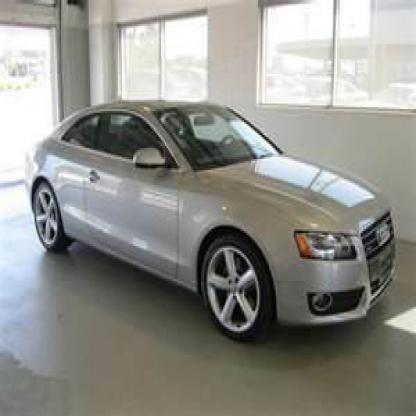Vehicle: (24, 100, 400, 349)
